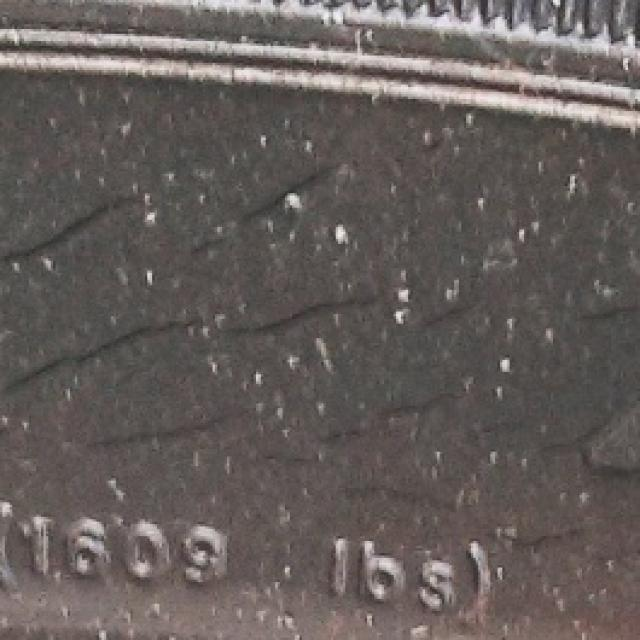Cracks: (0, 139, 638, 597)
